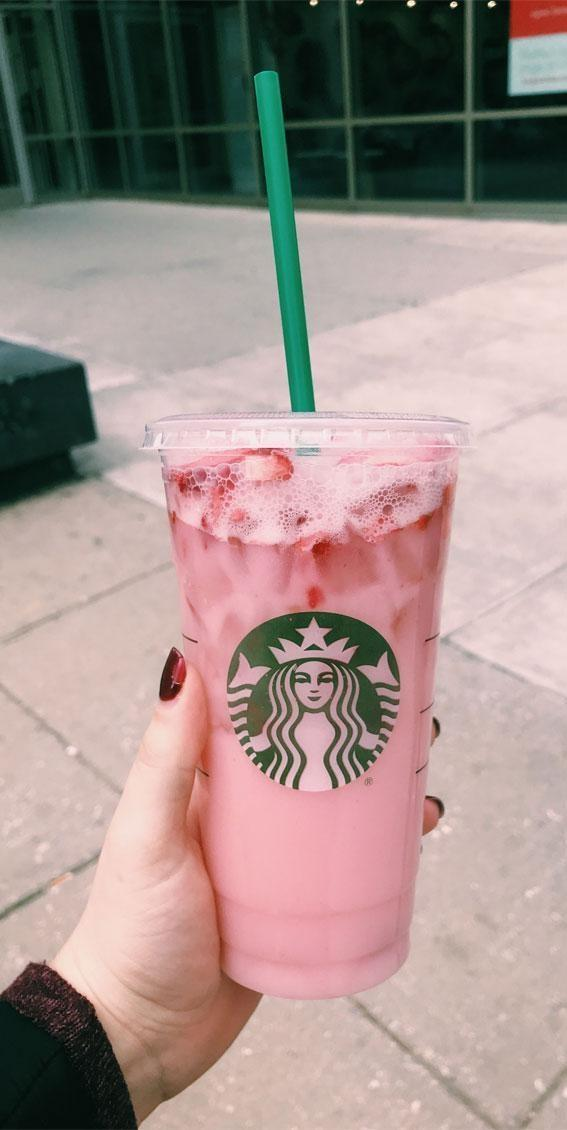cup-disposable: (146, 407, 467, 1002)
